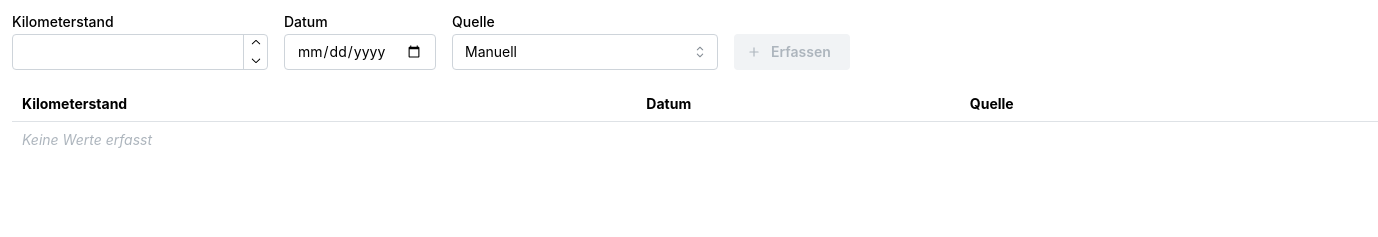
VehicleDetailPage — a failed save says so and keeps its key (KAN-269, KAN-271) › a dropped connection on an odometer save shows the tab's translated fallback
Type "42000" into the field labelled "Kilometerstand". click: coordinates (140, 52)
box: [12,34,268,70]
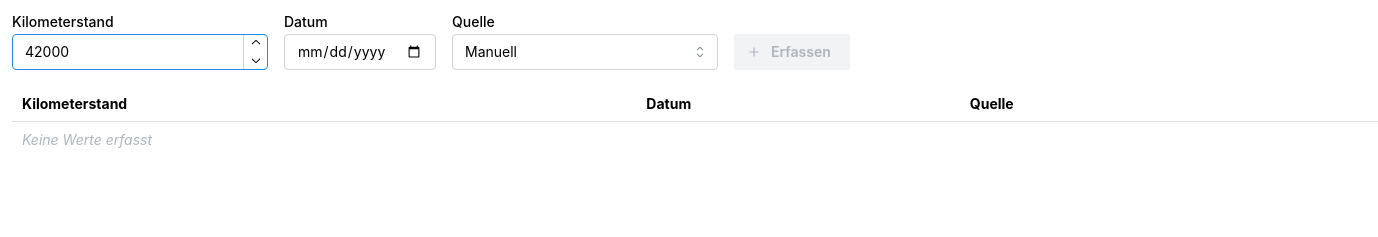
Type "2026-01-01" into the date field labelled "Datum". click: coordinates (360, 52)
box: [284,34,436,70]
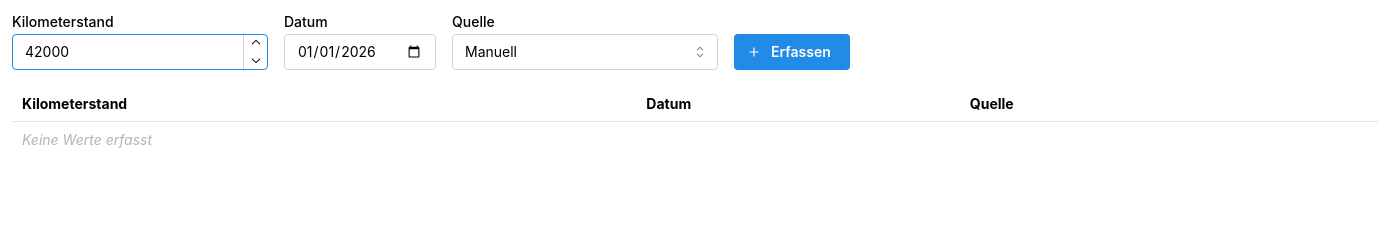
Click the button "Erfassen". click: coordinates (792, 52)
box: [734,34,850,70]
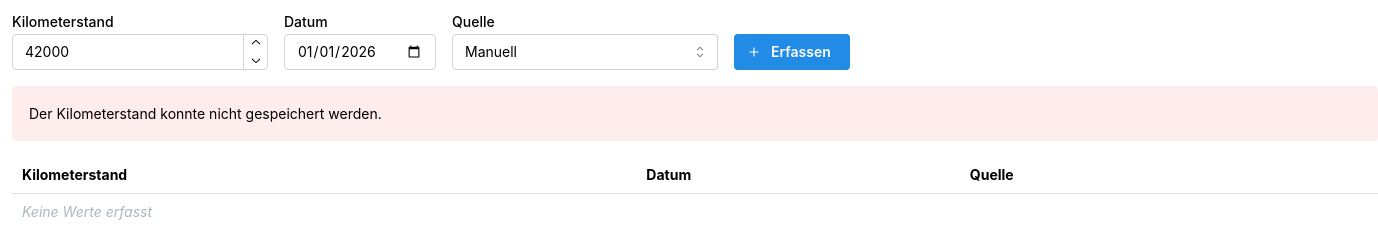
Expected: the message reads "Der Kilometerstand konnte nicht gespeichert werden.", [29,105,382,122]
